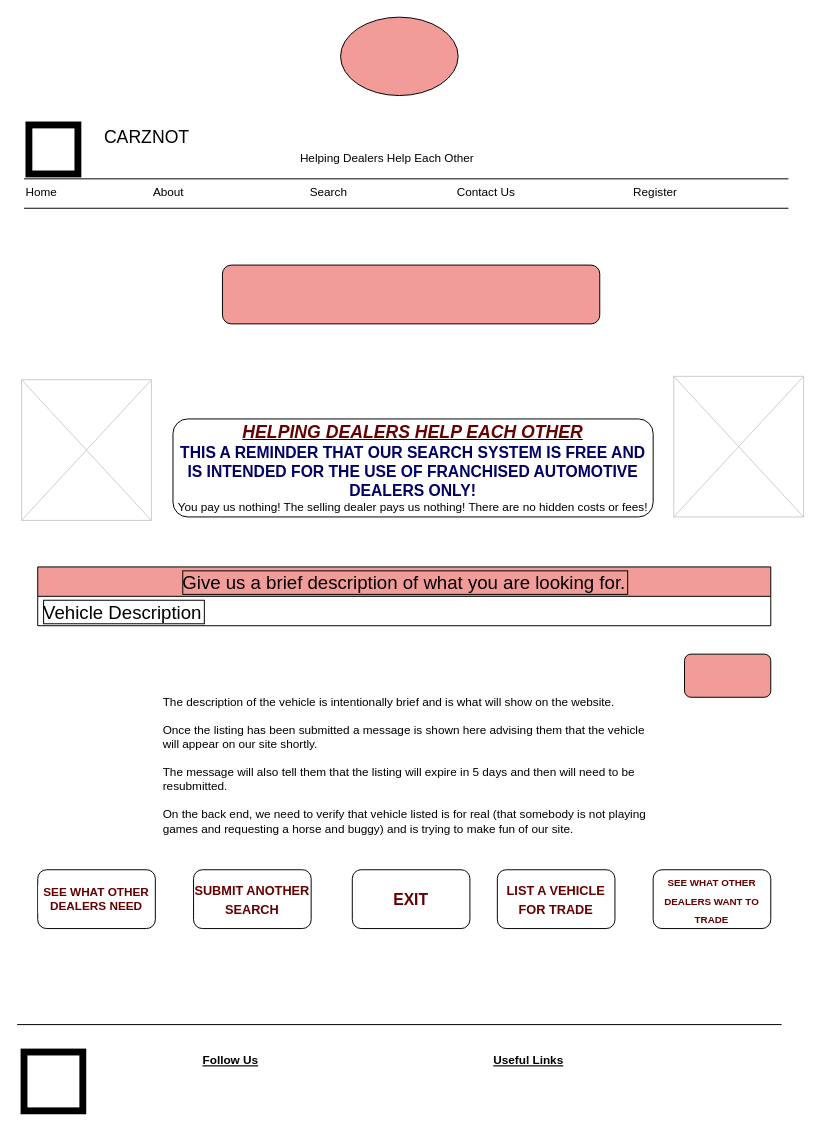
The diagram is 821 pixels wide and 1131 high, and some of its shapes have lost their labels. The centre of each missing label's shape, as x and y in pixels:
"Search Request" belongs at [399,56].
"Submit" belongs at [727,675].
"Vehicle Search" belongs at [410,294].
